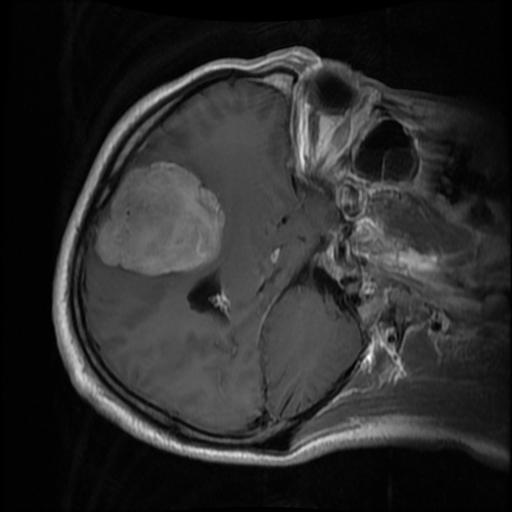meningioma: (92, 162, 223, 276)
